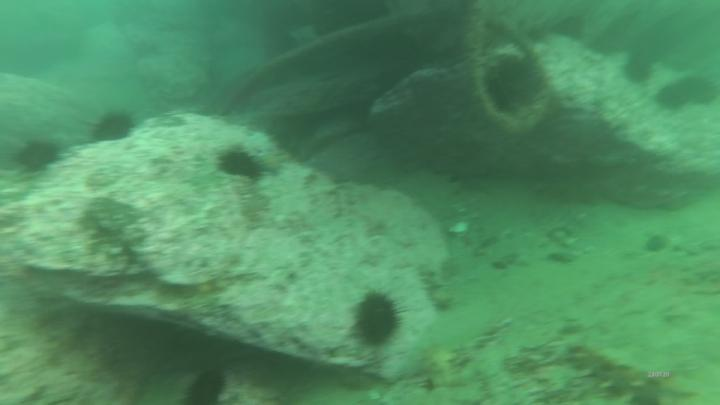echinus: (353, 292, 399, 352), (181, 365, 233, 405), (13, 138, 65, 177), (216, 146, 264, 184), (93, 109, 135, 146), (627, 51, 653, 86)
holothurian: (562, 342, 673, 402)
